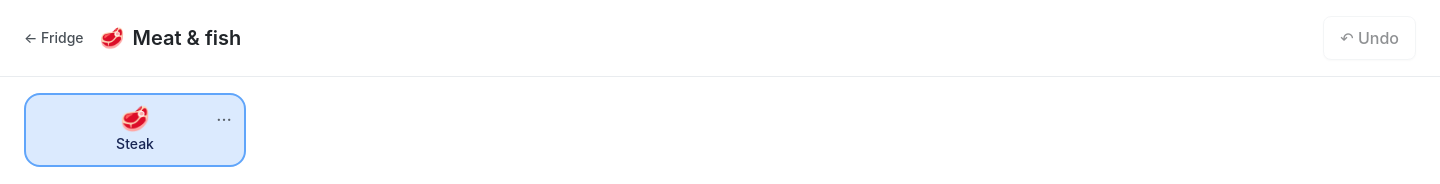
Test: an area › uses an item up with one tap, and leaves it as a grey tile
Click the button with aria-label "Steak, keeps".
click(135, 130)  # box [24, 93, 246, 166]
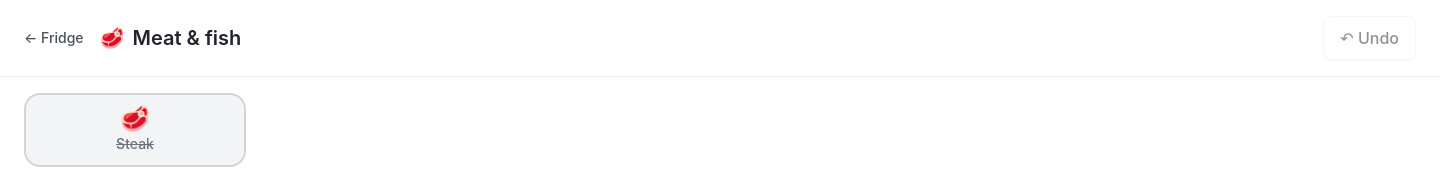
Check: the button with aria-label "Steak, used up" is shown, box [24, 93, 246, 166]
